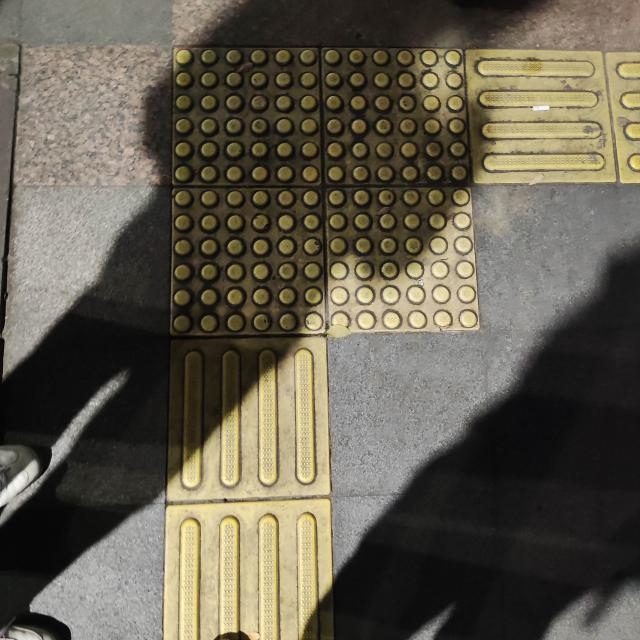kanan: (105, 0, 640, 408)
